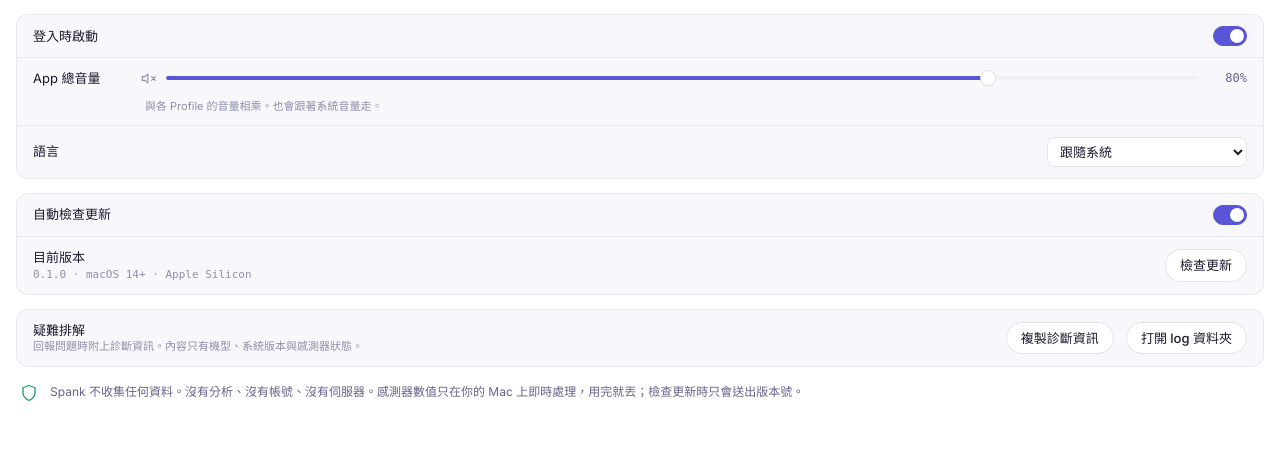
GeneralPage › shows an error and keeps the old value when saving fails
The width and height of the screenshot is (1280, 466).
Click the switch named "登入時啟動": (1230, 36) [1213,26,1247,46]
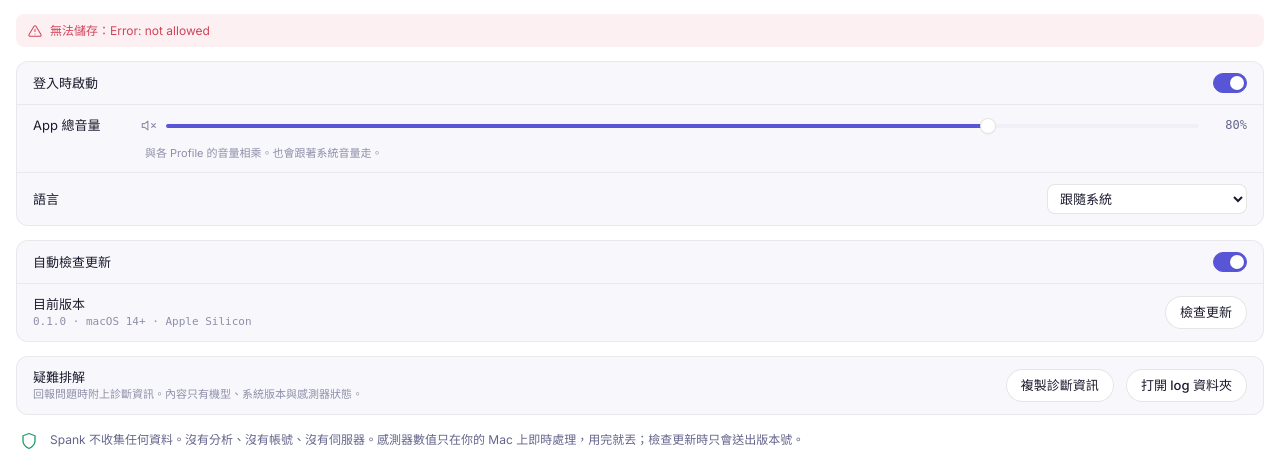
Expected: the switch named "登入時啟動" is checked, [1213,73,1247,93]
Expected: the message shows "not allowed", [50,23,210,38]
